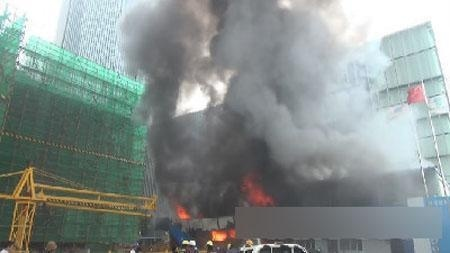fire: (244, 180, 274, 205), (209, 227, 234, 240), (176, 205, 191, 219)
